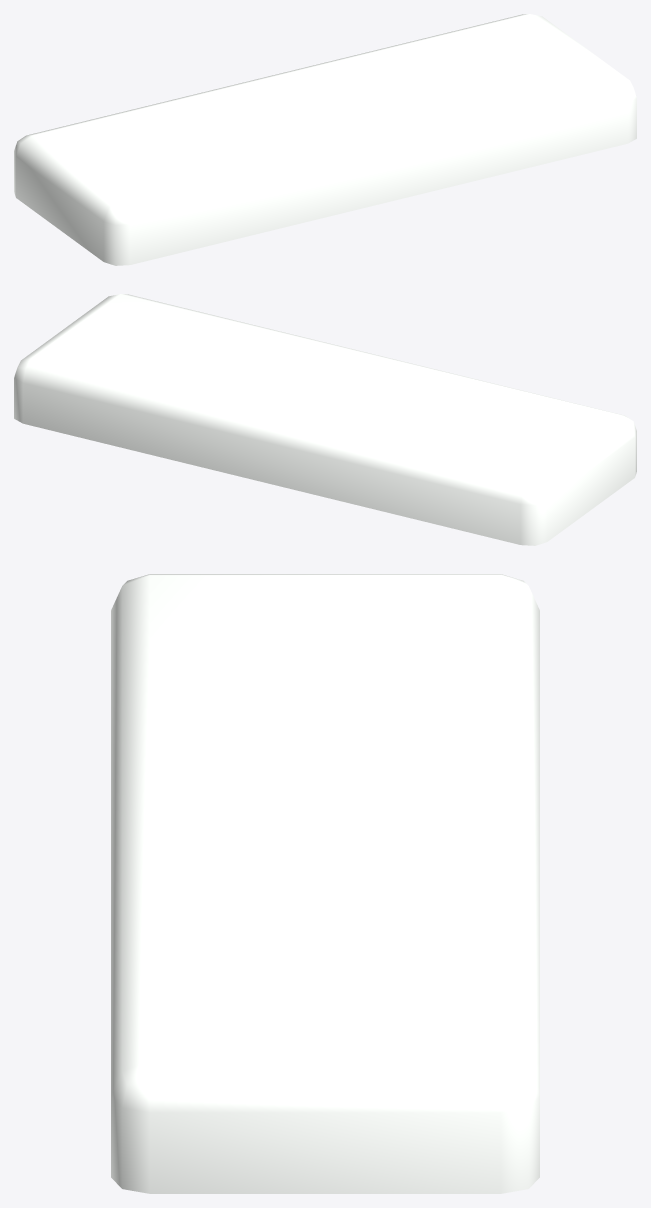
Rendered from button_rectangle_white.glb.
3 renders of one model, top to bottom at view 1: azimuth 30°, elevation 25°; view 2: azimuth 150°, elevation 25°; view 3: azimuth 270°, elevation 25°, orthographic. The views are drawn at different scales.
Parts seen in each view (by area): view 1: Cube.016; view 2: Cube.016; view 3: Cube.016.
Part boxes in pixels (bbox=[...]): Cube.016: bbox=[14, 14, 636, 265]; Cube.016: bbox=[14, 294, 636, 545]; Cube.016: bbox=[111, 574, 539, 1193].
Size of what is drawn, in the model's own units: 0.3845 by 0.0403 by 0.1345.
1 material, 1 textured.
